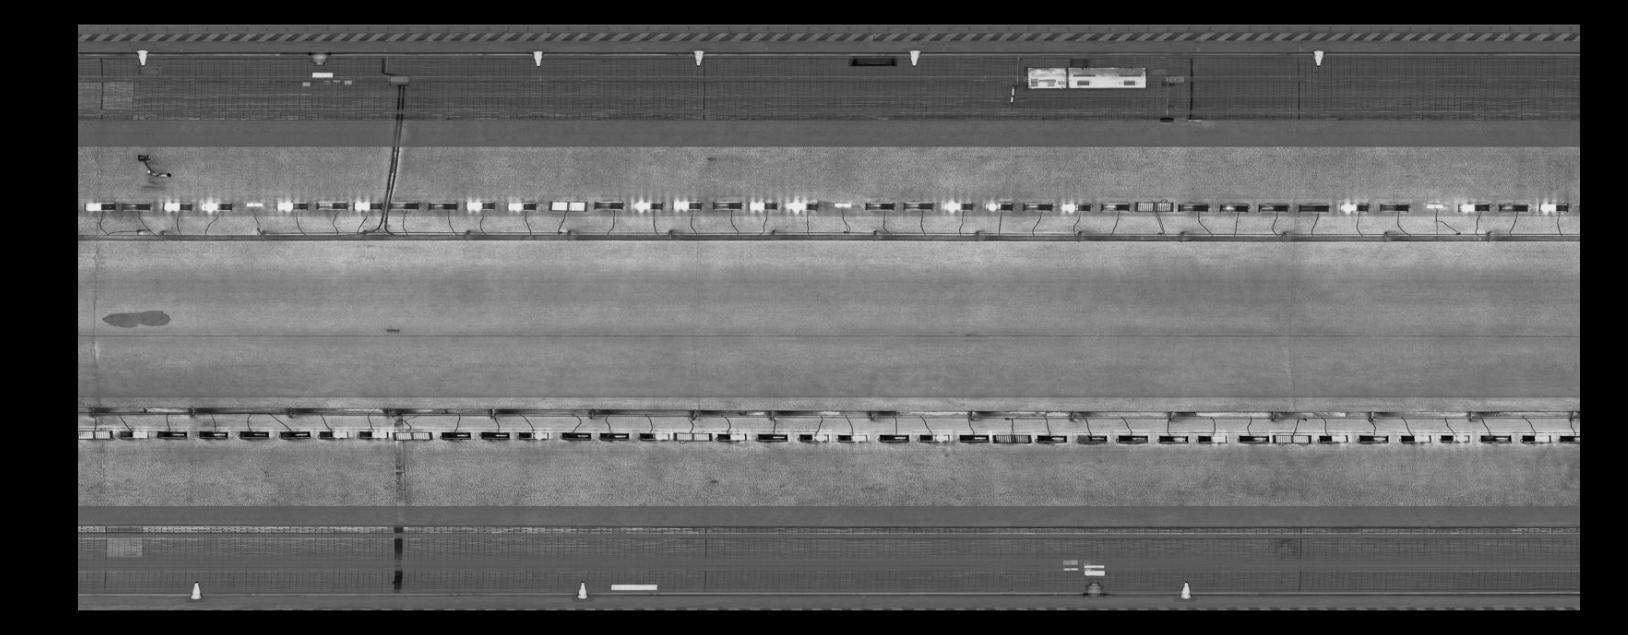light: (389, 426, 436, 443), (1269, 430, 1313, 446), (546, 197, 590, 214), (988, 430, 1034, 445), (671, 429, 714, 444), (1133, 198, 1175, 214), (784, 196, 821, 214), (78, 425, 115, 443), (461, 197, 498, 214), (1314, 430, 1352, 446), (501, 197, 538, 214), (1074, 431, 1110, 447), (1114, 430, 1150, 446), (1193, 430, 1229, 446), (1454, 198, 1494, 213), (631, 196, 667, 213), (754, 429, 791, 444), (1477, 431, 1515, 446), (1519, 431, 1556, 446), (1214, 199, 1253, 214), (914, 430, 953, 444), (1536, 198, 1570, 215), (197, 198, 234, 214), (714, 427, 751, 443), (795, 429, 832, 444), (1234, 431, 1271, 446), (1398, 430, 1434, 445), (476, 427, 514, 442), (515, 427, 553, 442), (558, 427, 596, 442), (350, 196, 387, 211), (1174, 199, 1212, 214), (1295, 199, 1332, 214), (1375, 199, 1412, 214), (437, 427, 474, 442), (1356, 431, 1390, 446), (709, 197, 745, 212), (1256, 199, 1293, 214), (1335, 199, 1372, 214), (1436, 431, 1472, 445), (1156, 431, 1189, 446), (591, 197, 626, 212), (745, 198, 781, 213), (941, 198, 976, 213), (1058, 199, 1093, 214), (114, 426, 152, 440), (833, 431, 870, 444), (1097, 198, 1132, 213), (234, 427, 273, 440), (900, 198, 937, 212), (316, 427, 352, 441), (274, 198, 313, 211), (152, 427, 190, 440), (1033, 432, 1071, 444), (862, 198, 897, 212), (1496, 200, 1531, 214), (277, 427, 313, 441), (597, 429, 632, 442), (876, 431, 912, 444), (956, 431, 992, 444), (81, 199, 118, 212), (159, 199, 196, 212), (313, 197, 350, 210), (637, 429, 672, 442), (116, 199, 153, 212), (424, 198, 460, 211), (671, 198, 704, 212), (982, 198, 1015, 212), (1020, 199, 1055, 212), (355, 427, 390, 440), (196, 427, 230, 440), (387, 199, 424, 211), (1557, 430, 1579, 443), (1423, 200, 1448, 210), (241, 198, 266, 206), (831, 200, 854, 209)
